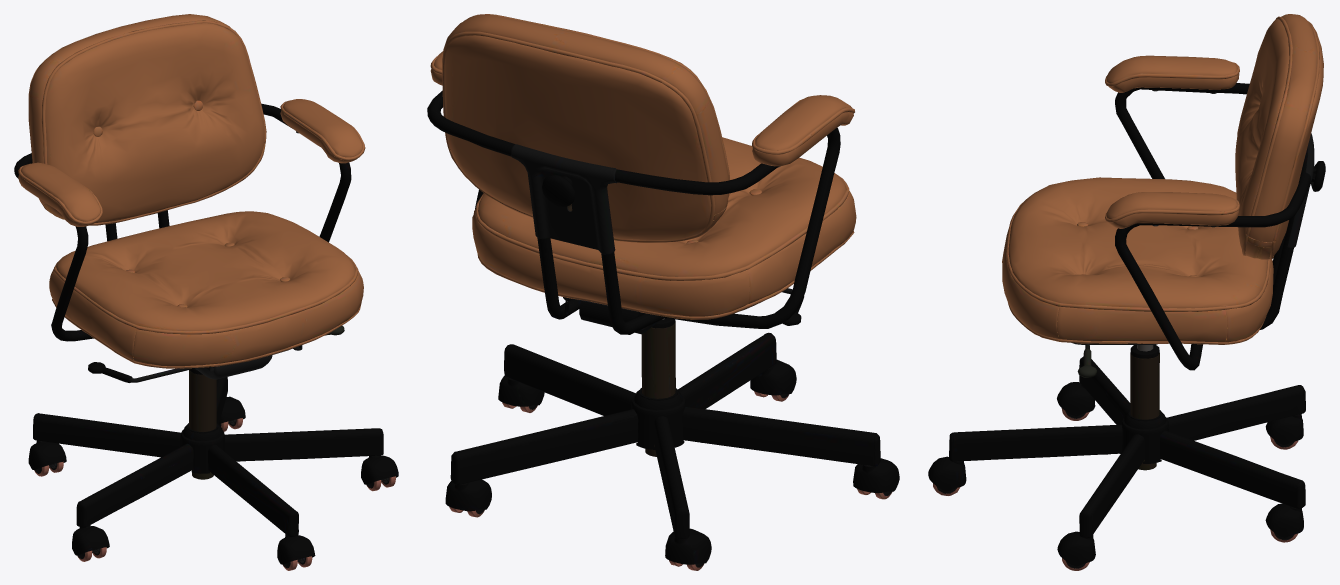
File: alefjall_krzeso_biurowe_40419982.glb
3 renders of one model, left to right at view 1: azimuth 30°, elevation 25°; view 2: azimuth 150°, elevation 25°; view 3: azimuth 270°, elevation 25°, orthographic. The views are drawn at different scales.
Visible parts, largest first — view 1: alefjall_krzeso_biurowe_40419982; view 2: alefjall_krzeso_biurowe_40419982; view 3: alefjall_krzeso_biurowe_40419982.
Part boxes in pixels (box(x1,y1,x2,y2)): alefjall_krzeso_biurowe_40419982: box(14, 14, 398, 570); alefjall_krzeso_biurowe_40419982: box(427, 14, 899, 570); alefjall_krzeso_biurowe_40419982: box(928, 14, 1325, 570).
Size of the model in its own units: 0.6745 by 0.8458 by 0.685.
1 material, 1 textured.
